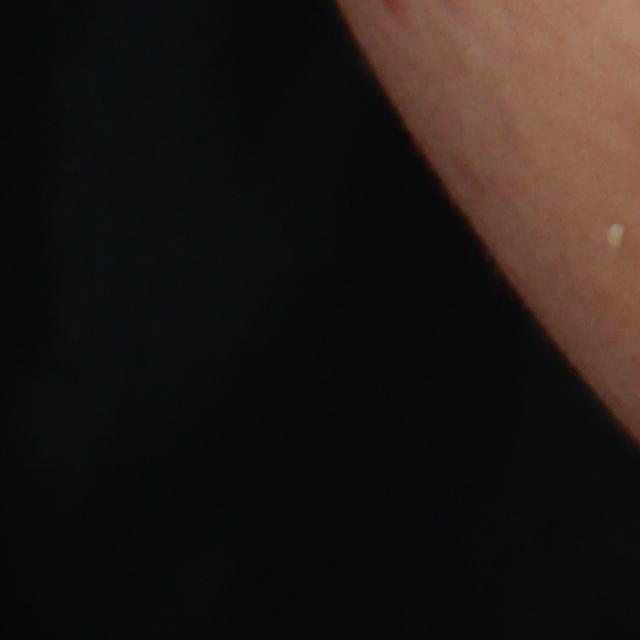other: (604, 221, 630, 254)
